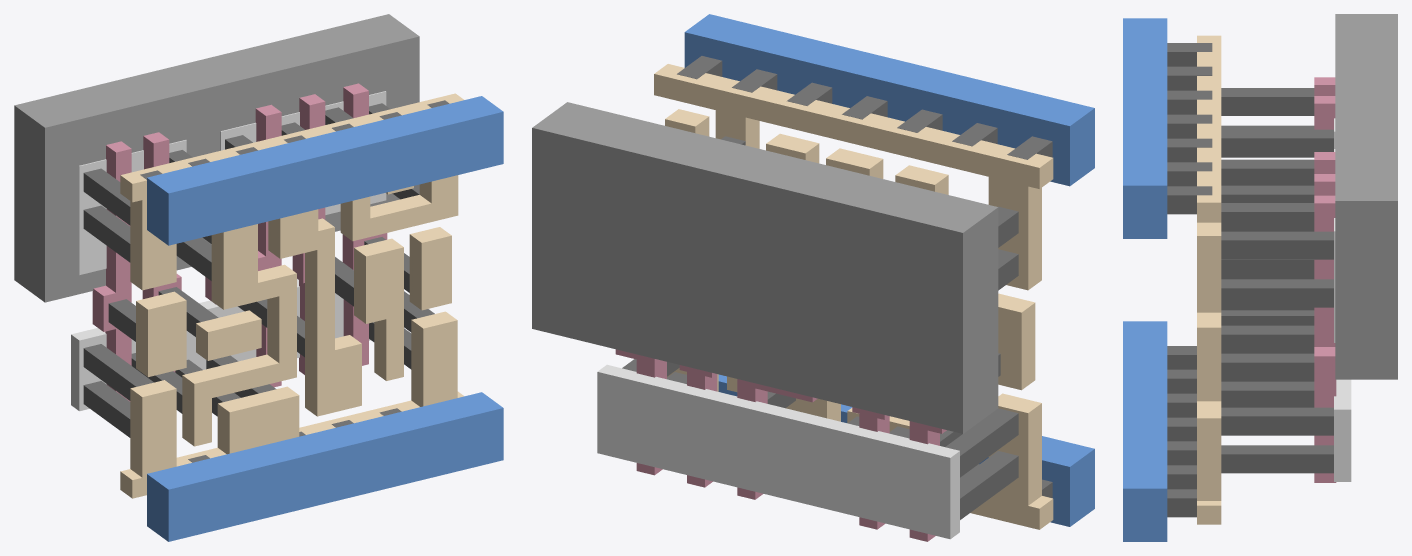
The model's file is sky130_fd_sc_hd__a2bb2oi_1.gds.gltf.
The picture shows the model from 3 angles, left to right: view 1: azimuth 30°, elevation 25°; view 2: azimuth 150°, elevation 25°; view 3: azimuth 270°, elevation 25°; orthographic projection. The views are drawn at different scales.
Visible parts, largest first — view 1: sky130_fd_sc_hd__a2bb2oi_1_li1, sky130_fd_sc_hd__a2bb2oi_1_met1, sky130_fd_sc_hd__a2bb2oi_1_nwell, sky130_fd_sc_hd__a2bb2oi_1_licon, sky130_fd_sc_hd__a2bb2oi_1_poly, sky130_fd_sc_hd__a2bb2oi_1_diff, sky130_fd_sc_hd__a2bb2oi_1_mcon; view 2: sky130_fd_sc_hd__a2bb2oi_1_nwell, sky130_fd_sc_hd__a2bb2oi_1_diff, sky130_fd_sc_hd__a2bb2oi_1_li1, sky130_fd_sc_hd__a2bb2oi_1_met1, sky130_fd_sc_hd__a2bb2oi_1_licon, sky130_fd_sc_hd__a2bb2oi_1_mcon, sky130_fd_sc_hd__a2bb2oi_1_poly; view 3: sky130_fd_sc_hd__a2bb2oi_1_licon, sky130_fd_sc_hd__a2bb2oi_1_nwell, sky130_fd_sc_hd__a2bb2oi_1_met1, sky130_fd_sc_hd__a2bb2oi_1_mcon, sky130_fd_sc_hd__a2bb2oi_1_li1, sky130_fd_sc_hd__a2bb2oi_1_poly, sky130_fd_sc_hd__a2bb2oi_1_diff.
Part boxes in pixels (x1,y1,x2,y2): sky130_fd_sc_hd__a2bb2oi_1_li1: [120, 93, 463, 498]; sky130_fd_sc_hd__a2bb2oi_1_met1: [147, 96, 503, 541]; sky130_fd_sc_hd__a2bb2oi_1_nwell: [14, 14, 419, 302]; sky130_fd_sc_hd__a2bb2oi_1_licon: [83, 103, 434, 437]; sky130_fd_sc_hd__a2bb2oi_1_poly: [92, 83, 387, 401]; sky130_fd_sc_hd__a2bb2oi_1_diff: [71, 91, 386, 411]; sky130_fd_sc_hd__a2bb2oi_1_mcon: [140, 100, 449, 462]; sky130_fd_sc_hd__a2bb2oi_1_nwell: [532, 102, 998, 433]; sky130_fd_sc_hd__a2bb2oi_1_diff: [597, 364, 959, 539]; sky130_fd_sc_hd__a2bb2oi_1_li1: [654, 64, 1053, 529]; sky130_fd_sc_hd__a2bb2oi_1_met1: [684, 14, 1094, 526]; sky130_fd_sc_hd__a2bb2oi_1_licon: [622, 136, 1018, 519]; sky130_fd_sc_hd__a2bb2oi_1_mcon: [677, 56, 1052, 498]; sky130_fd_sc_hd__a2bb2oi_1_poly: [615, 349, 946, 541]; sky130_fd_sc_hd__a2bb2oi_1_licon: [1221, 88, 1333, 473]; sky130_fd_sc_hd__a2bb2oi_1_nwell: [1335, 14, 1397, 379]; sky130_fd_sc_hd__a2bb2oi_1_met1: [1123, 18, 1167, 541]; sky130_fd_sc_hd__a2bb2oi_1_mcon: [1167, 43, 1212, 517]; sky130_fd_sc_hd__a2bb2oi_1_li1: [1197, 35, 1221, 524]; sky130_fd_sc_hd__a2bb2oi_1_poly: [1314, 77, 1336, 482]; sky130_fd_sc_hd__a2bb2oi_1_diff: [1334, 118, 1351, 481].
Size of the model in its own units: 3.6 by 3.2 by 2.24.
